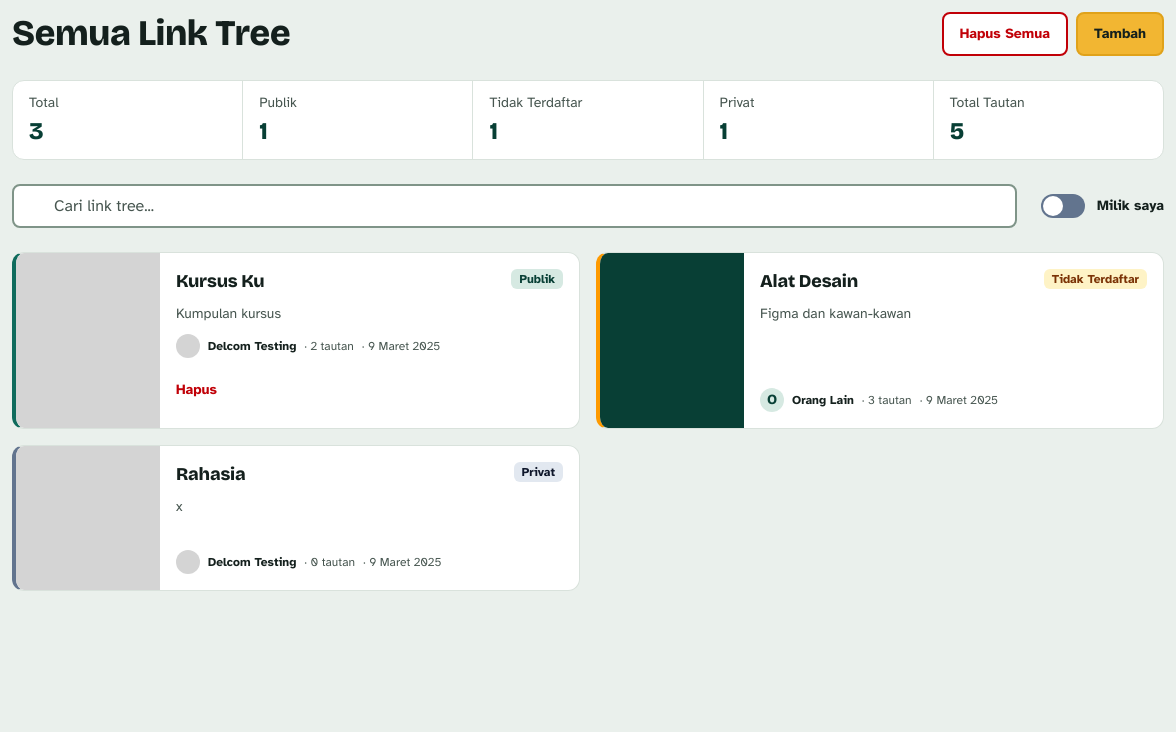
Test: HomePage › mencari berdasarkan judul/deskripsi
Type "figma" into the search field labelled "Cari link tree" at [514, 206], box [12,184,1017,228]
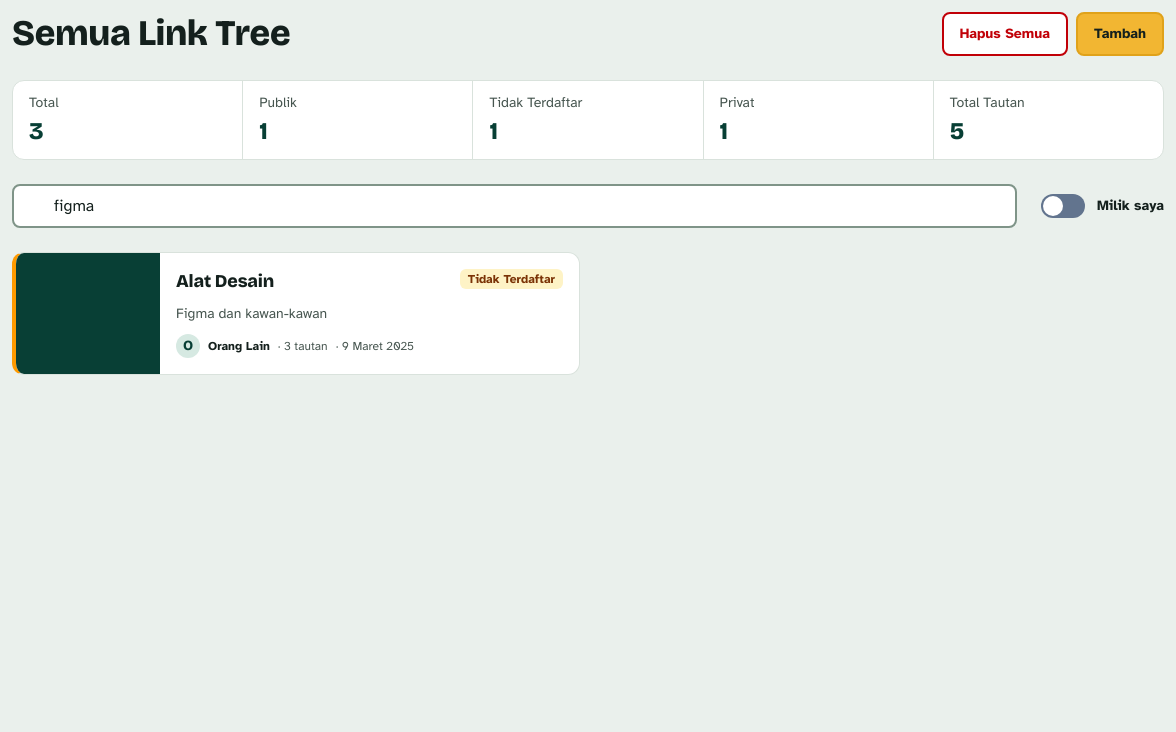
Expected: the link "Alat Desain" is shown, [176,270,274,292]
Expected: the link "Kursus Ku" is gone
